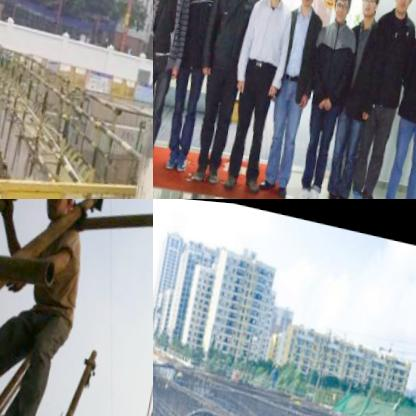head: (329, 0, 354, 17), (359, 0, 383, 15), (391, 0, 416, 9)
helmet: (34, 199, 85, 230)
